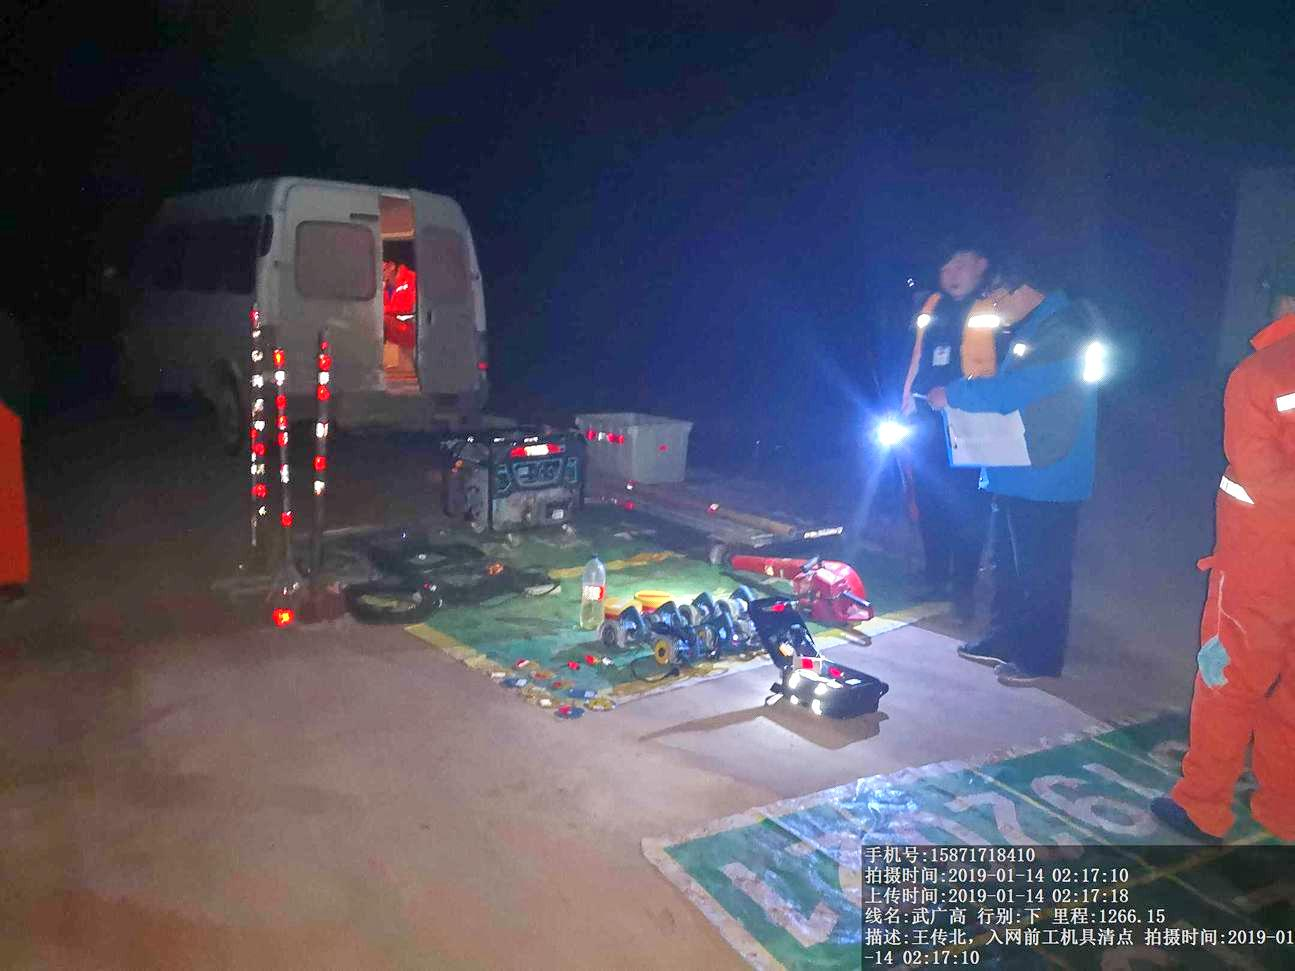DJ: (438, 427, 586, 531)
DX: (346, 578, 438, 624)
GFJ: (735, 555, 884, 621)
GJB: (743, 606, 886, 726)
JC: (636, 576, 674, 612)
T: (582, 405, 698, 476)
